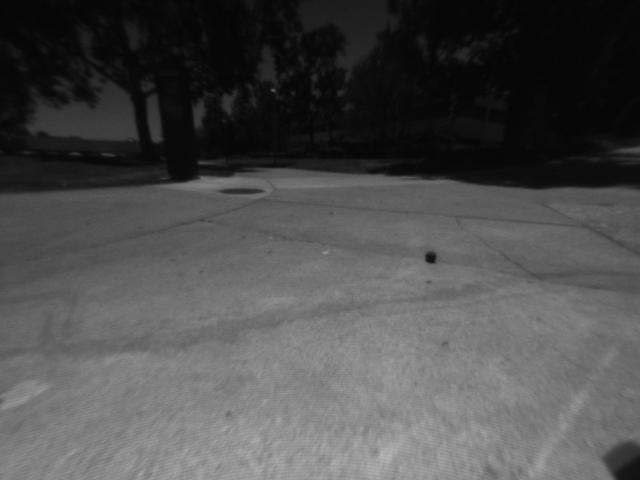dogtoy: (417, 244, 448, 266)
